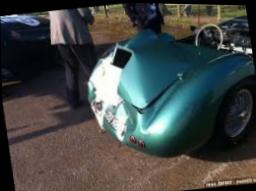Bumper: (87, 81, 154, 156)
Dickey: (85, 29, 234, 109)
